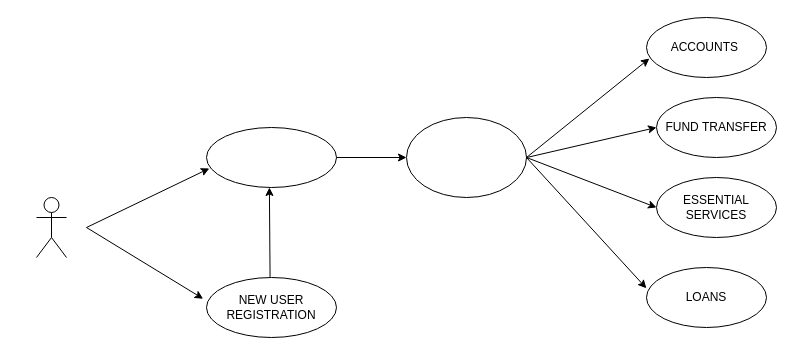
Some shapes in this 794 by 355 pixel diagram are drawn without their labels. The centre of each missing label's shape, as x and y in pixels:
CUSTOMER: point (51, 227)
EXISTING USER SIGN-IN: point (271, 157)
HOMEPAGE: point (466, 157)
